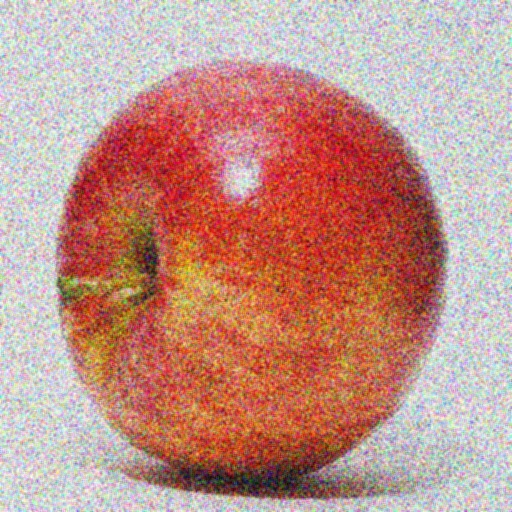fruit: (25, 135, 88, 433)
